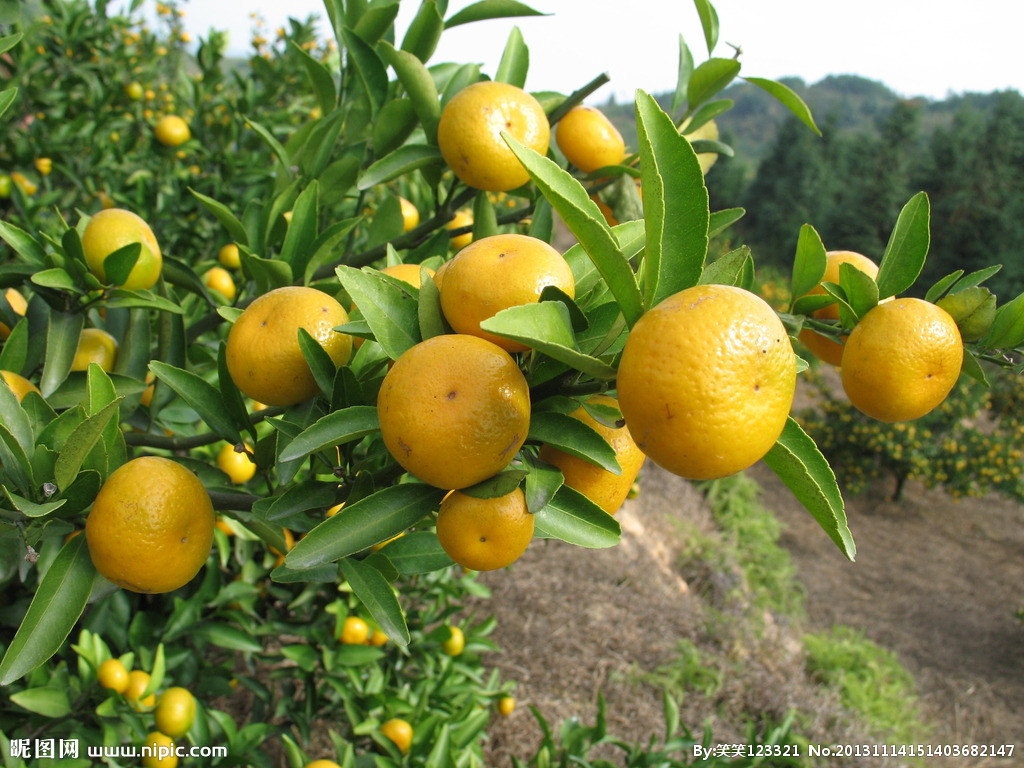orange: (621, 284, 793, 479), (377, 332, 531, 487), (523, 383, 659, 519), (89, 454, 216, 593), (835, 298, 966, 424), (441, 232, 577, 351), (223, 282, 350, 403), (441, 79, 547, 194), (434, 475, 543, 569), (792, 250, 884, 361), (80, 204, 164, 302), (552, 105, 627, 199)
